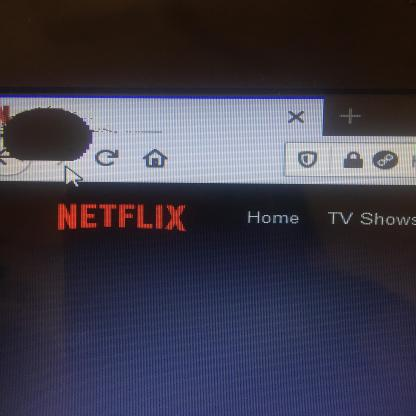fade: (1, 87, 415, 415)
spot: (0, 104, 101, 167)
